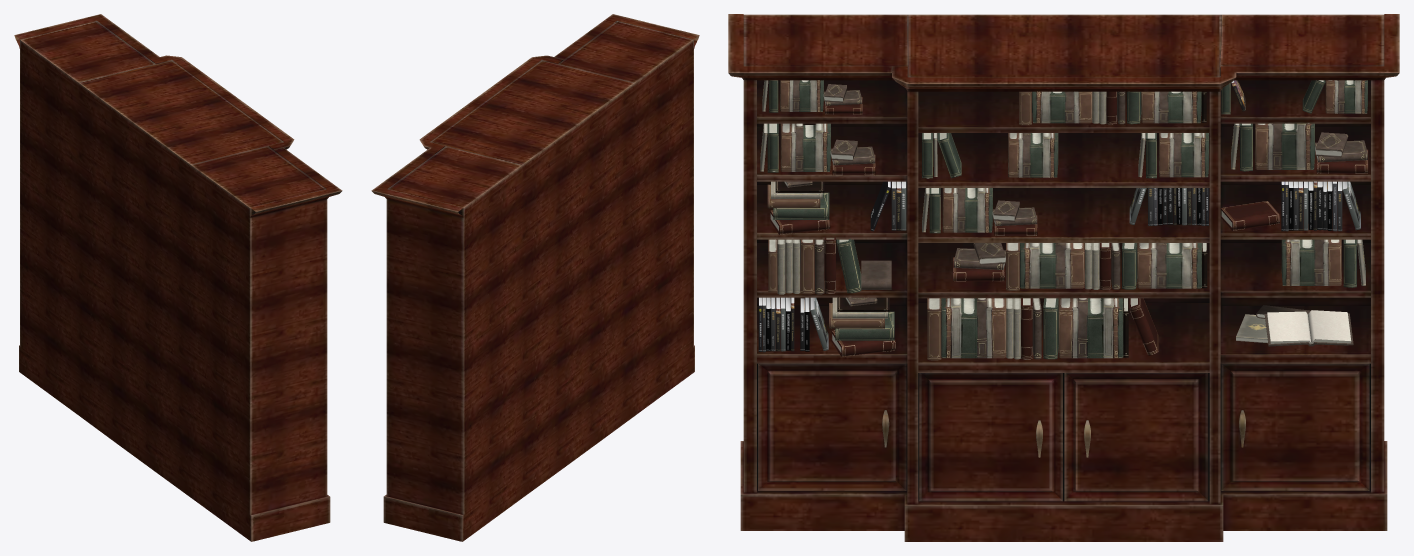
Rendered from library_bookcase.glb.
The picture shows the model from 3 angles, left to right: view 1: azimuth 30°, elevation 25°; view 2: azimuth 150°, elevation 25°; view 3: azimuth 270°, elevation 25°; orthographic projection. The views are drawn at different scales.
Visible parts, largest first — view 1: shkaff_obj_1_SHKAFF MAT_0; view 2: shkaff_obj_1_SHKAFF MAT_0; view 3: shkaff_obj_1_SHKAFF MAT_0, BOOKS_1_BOOKS_0, BOOKS_1_cp2_0, BOOKS_1_cp3_0, BOOKS_1_cp8_0, BOOKS_1_cp5_0, BOOKS_1__0, BOOKS_1_cp1_0, shkaff_obj_1_SHKAF ALBEDO_0.
Boxes of the visible parts, x1=… form: shkaff_obj_1_SHKAFF MAT_0: x1=14, y1=14, x2=342, y2=541; shkaff_obj_1_SHKAFF MAT_0: x1=371, y1=14, x2=699, y2=541; shkaff_obj_1_SHKAFF MAT_0: x1=728, y1=14, x2=1399, y2=541; BOOKS_1_BOOKS_0: x1=760, y1=80, x2=1368, y2=360; BOOKS_1_cp2_0: x1=781, y1=181, x2=1360, y2=351; BOOKS_1_cp3_0: x1=762, y1=182, x2=1342, y2=352; BOOKS_1_cp8_0: x1=776, y1=80, x2=1317, y2=351; BOOKS_1_cp5_0: x1=766, y1=182, x2=1332, y2=351; BOOKS_1__0: x1=759, y1=80, x2=1347, y2=312; BOOKS_1_cp1_0: x1=758, y1=181, x2=1284, y2=351; shkaff_obj_1_SHKAF ALBEDO_0: x1=882, y1=410, x2=1245, y2=457.
Bounding box in the file's own units: 1.24 × 3.82 × 5.01.
Materials: 13 (12 with a texture image).
